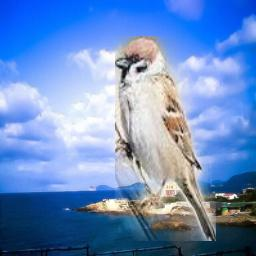Sparrow: (115, 36, 216, 241)
